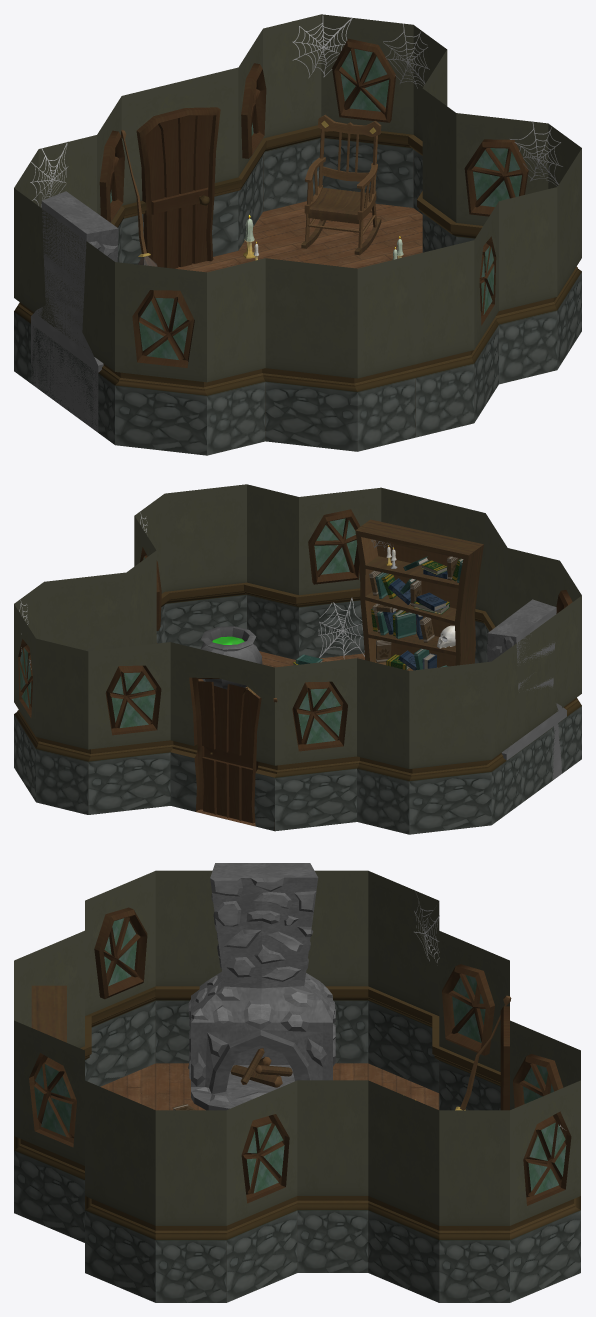
The model's file is hut.glb.
The picture shows the model from 3 angles, top to bottom: view 1: azimuth 30°, elevation 25°; view 2: azimuth 150°, elevation 25°; view 3: azimuth 270°, elevation 25°; orthographic projection. The views are drawn at different scales.
Visible parts, largest first — view 1: Object_7, Object_4, Object_3, Object_5, Object_11, Object_10, Object_12; view 2: Object_7, Object_11, Object_3, Object_4, Object_9, Object_8, Object_6, Object_10, Object_5, Object_12; view 3: Object_7, Object_4, Object_5, Object_11, Object_3, Object_10.
Boxes of the visible parts, box(x1,y1,x2,y2) form: Object_7: box(14, 14, 581, 455); Object_4: box(31, 191, 118, 432); Object_3: box(122, 107, 241, 268); Object_5: box(175, 201, 422, 272); Object_11: box(121, 114, 381, 266); Object_10: box(30, 15, 562, 206); Object_12: box(243, 215, 403, 260); Object_7: box(14, 484, 581, 834); Object_11: box(273, 519, 483, 702); Object_3: box(171, 677, 277, 823); Object_4: box(487, 599, 566, 779); Object_9: box(293, 556, 462, 669); Object_8: box(293, 556, 463, 670); Object_6: box(201, 626, 262, 694); Object_10: box(19, 512, 393, 669); Object_5: box(196, 651, 364, 826); Object_12: box(386, 545, 455, 648); Object_7: box(14, 870, 580, 1302); Object_4: box(188, 863, 335, 1110); Object_5: box(100, 1063, 439, 1110); Object_11: box(31, 985, 511, 1110); Object_3: box(500, 1006, 509, 1110); Object_10: box(414, 891, 564, 1129).
Bounding box in the file's own units: 6.42 × 2.55 × 6.41.
9 materials, 9 textured.
